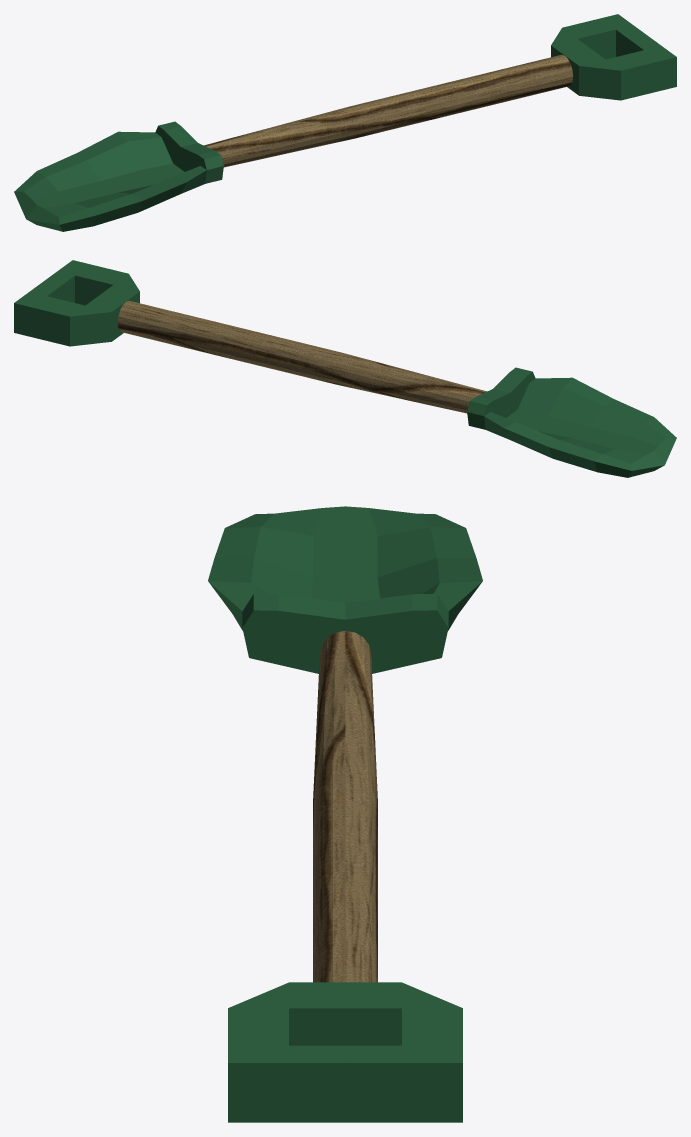
The model's file is mod_tool_shovel.fbx.
3 views of the same model, one above another, from view 1: azimuth 30°, elevation 25°; view 2: azimuth 150°, elevation 25°; view 3: azimuth 270°, elevation 25° (orthographic). The views are drawn at different scales.
Parts seen in each view (by area): view 1: mesh_shovel_spade, mesh_shovel_handle, mesh_shovel_handle2; view 2: mesh_shovel_spade, mesh_shovel_handle, mesh_shovel_handle2; view 3: mesh_shovel_spade, mesh_shovel_handle2, mesh_shovel_handle.
Part boxes in pixels (x1=…): mesh_shovel_spade: x1=14, y1=121, x2=223, y2=231; mesh_shovel_handle: x1=204, y1=54, x2=573, y2=167; mesh_shovel_handle2: x1=551, y1=14, x2=676, y2=100; mesh_shovel_spade: x1=467, y1=367, x2=676, y2=477; mesh_shovel_handle: x1=117, y1=300, x2=486, y2=413; mesh_shovel_handle2: x1=14, y1=260, x2=139, y2=346; mesh_shovel_spade: x1=208, y1=506, x2=482, y2=673; mesh_shovel_handle2: x1=228, y1=982, x2=462, y2=1122; mesh_shovel_handle: x1=313, y1=631, x2=377, y2=982.
Size of the model in its own units: 703 by 55.26 by 135.
